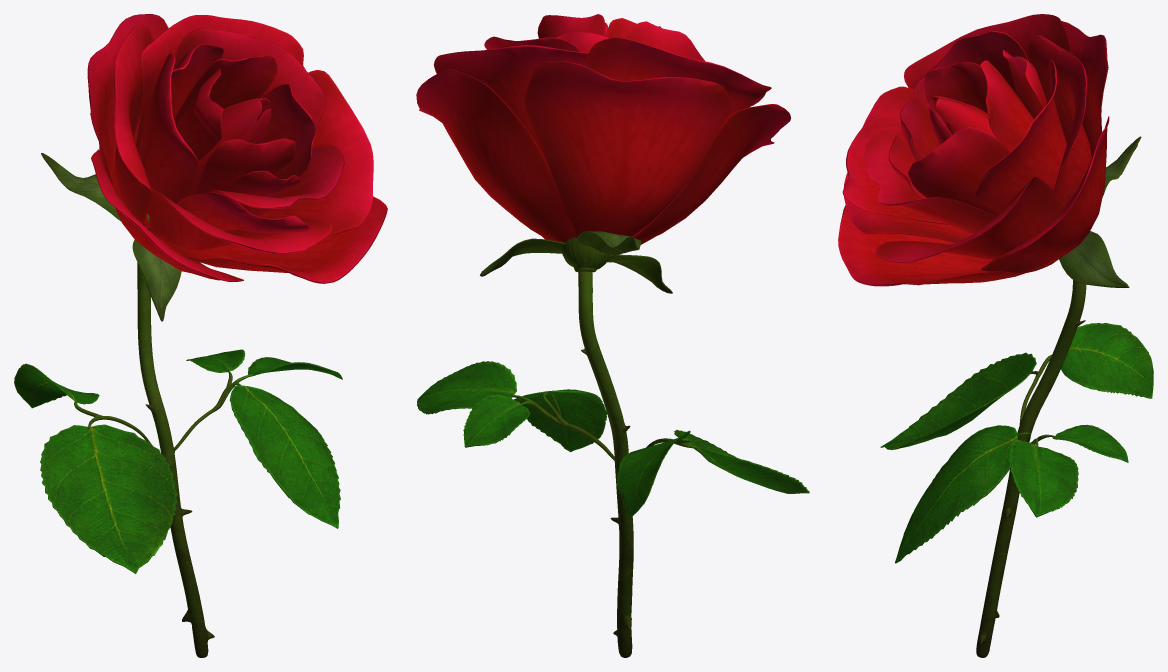
The model's file is ROSA.fbx.
The picture shows the model from 3 angles, left to right: view 1: azimuth 30°, elevation 25°; view 2: azimuth 150°, elevation 25°; view 3: azimuth 270°, elevation 25°; orthographic projection. The views are drawn at different scales.
Visible parts, largest first — view 1: node_id30; view 2: node_id30; view 3: node_id30.
Part boxes in pixels (<box>): node_id30: <box>14,14,387,657</box>; node_id30: <box>416,14,809,657</box>; node_id30: <box>838,14,1153,657</box>.
Bounding box in the file's own units: 0.2171 × 0.3857 × 0.1766.
1 material, 1 textured.
